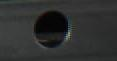holes: (31, 9, 72, 48)
